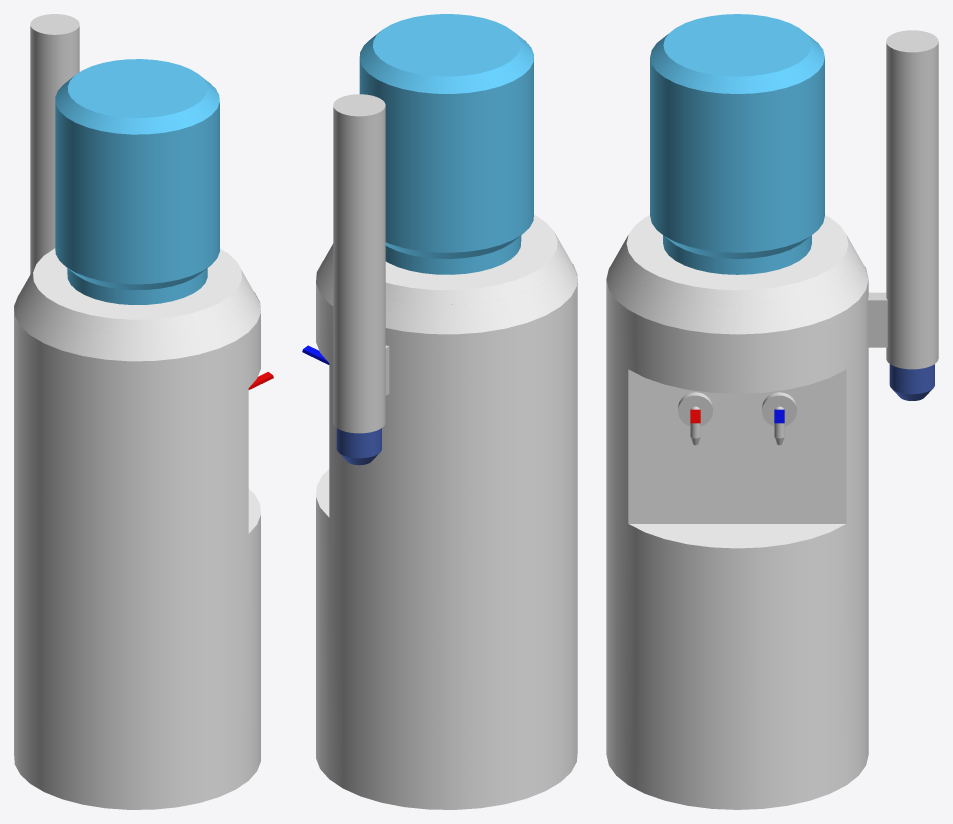
The model's file is WaterDispenser.glb.
3 renders of one model, left to right at view 1: azimuth 30°, elevation 25°; view 2: azimuth 150°, elevation 25°; view 3: azimuth 270°, elevation 25°, orthographic. The views are drawn at different scales.
Parts seen in each view (by area): view 1: Cylinder, Cylinder.001, Cylinder.008; view 2: Cylinder, Cylinder.001, Cylinder.008, Cylinder.009; view 3: Cylinder, Cylinder.001, Cylinder.008, Cylinder.009, Cube.002, Cylinder.002, Cylinder.003.
Boxes of the visible parts, x1,y1,x2,y2 form: Cylinder: (14, 248, 260, 809); Cylinder.001: (55, 59, 219, 304); Cylinder.008: (30, 14, 79, 273); Cylinder: (316, 214, 577, 809); Cylinder.001: (359, 14, 533, 274); Cylinder.008: (333, 94, 385, 433); Cylinder.009: (336, 428, 381, 465); Cylinder: (606, 215, 868, 809); Cylinder.001: (650, 14, 824, 274); Cylinder.008: (886, 30, 938, 369); Cylinder.009: (889, 364, 934, 400); Cube.002: (867, 292, 887, 347); Cylinder.002: (678, 392, 712, 426); Cylinder.003: (762, 392, 796, 426).
Size of the model in its own units: 0.7743 by 2.25 by 0.95.
13 materials, 2 textured.
